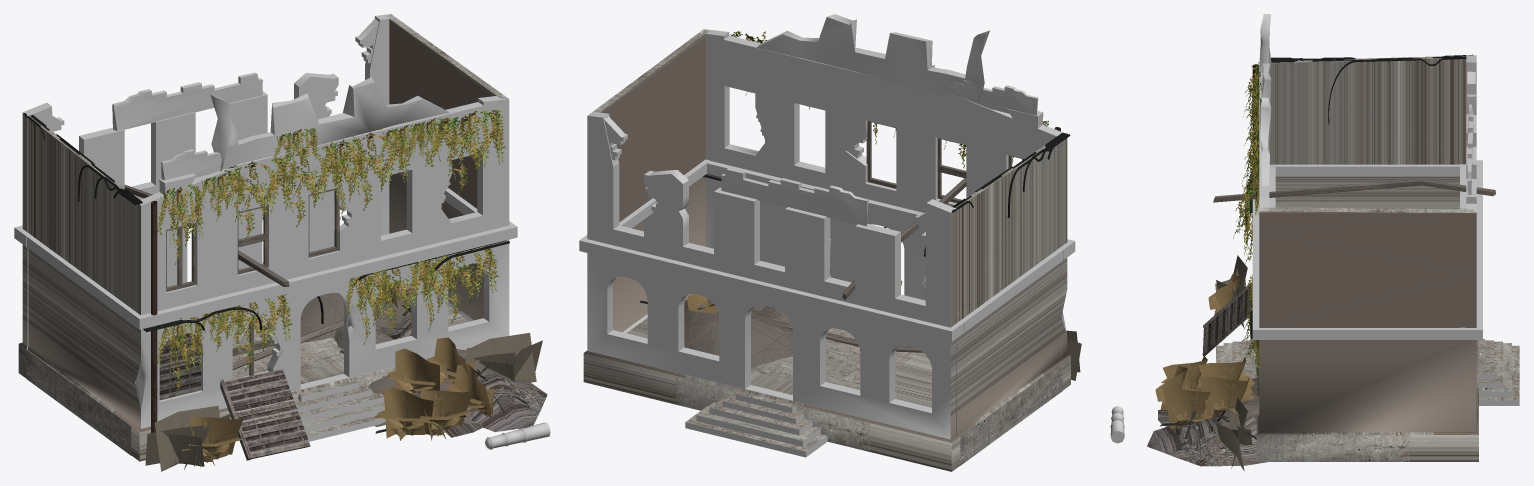
Rendered from house yellow2 LOD0.fbx.
The picture shows the model from 3 angles, left to right: view 1: azimuth 30°, elevation 25°; view 2: azimuth 150°, elevation 25°; view 3: azimuth 270°, elevation 25°; orthographic projection. The views are drawn at different scales.
Visible parts, largest first — view 1: polymsh; view 2: polymsh; view 3: polymsh.
Boxes of the visible parts, x1,y1,x2,y2 form: polymsh: (14, 14, 550, 471); polymsh: (579, 14, 1081, 471); polymsh: (1110, 14, 1519, 471).
Bounding box in the file's own units: 9.68 × 8.23 × 9.41.
